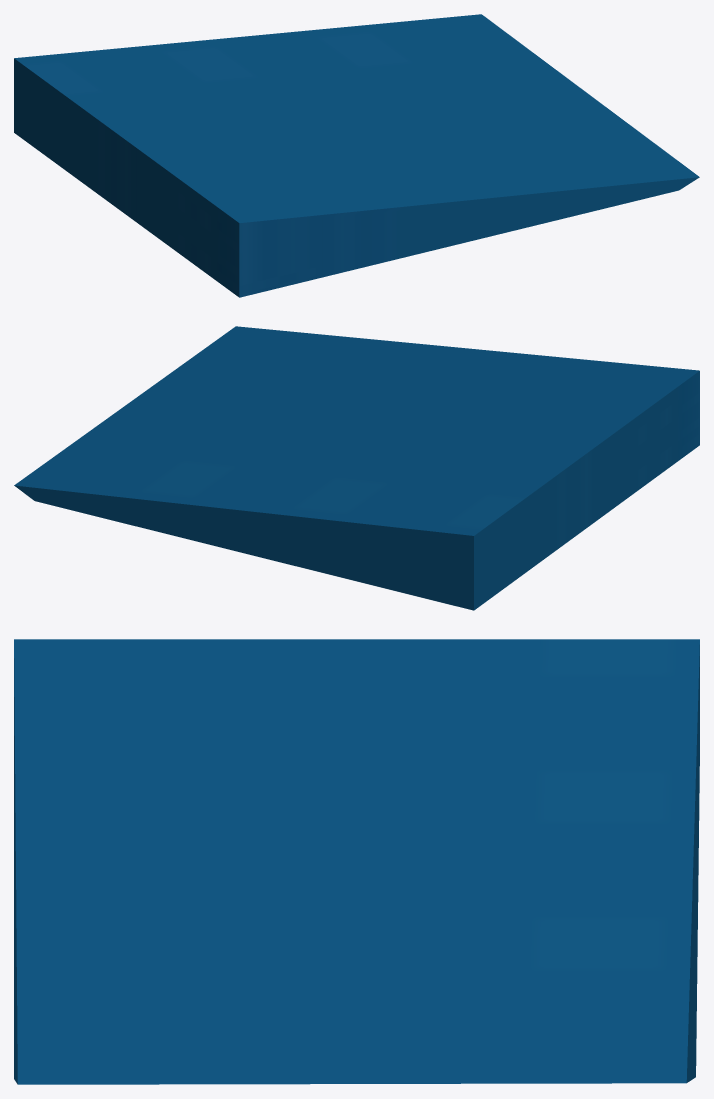
File: rampadiscapacitado.glb
3 renders of one model, top to bottom at view 1: azimuth 30°, elevation 25°; view 2: azimuth 150°, elevation 25°; view 3: azimuth 270°, elevation 25°, orthographic. The views are drawn at different scales.
Parts seen in each view (by area): view 1: Cubo; view 2: Cubo; view 3: Cubo.
Part boxes in pixels (x1=…): Cubo: x1=14, y1=14, x2=699, y2=297; Cubo: x1=14, y1=326, x2=699, y2=610; Cubo: x1=14, y1=639, x2=699, y2=1084.
Size of the model in its own units: 7.57 by 1.16 by 6.38.
1 material, 1 textured.
